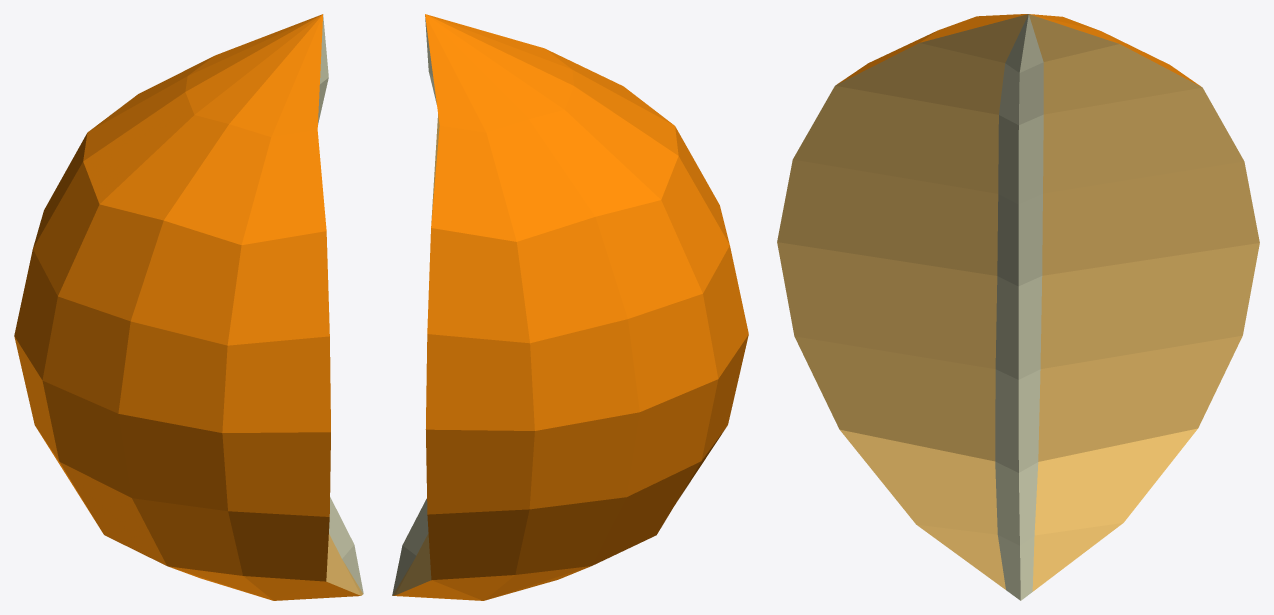
Rendered from half_orange.glb.
3 views of the same model, side by side, from view 1: azimuth 30°, elevation 25°; view 2: azimuth 150°, elevation 25°; view 3: azimuth 270°, elevation 25° (orthographic). The views are drawn at different scales.
Visible parts, largest first — view 1: Orange Slice; view 2: Orange Slice; view 3: Orange Slice.
Boxes of the visible parts, x1,y1,x2,y2 form: Orange Slice: [14, 14, 363, 600]; Orange Slice: [392, 14, 748, 600]; Orange Slice: [777, 14, 1259, 600].
Bounding box in the file's own units: 0.0751 × 0.1307 × 0.1004.
1 material, 1 textured.
